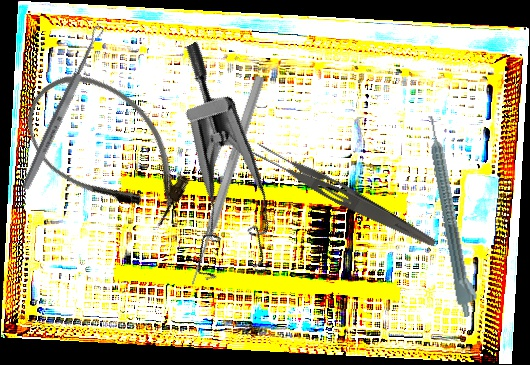Cannula: (5, 50, 212, 247)
Dressing Forceps: (249, 138, 441, 252)
Handpiece: (423, 113, 483, 318)
Pusher: (185, 74, 267, 288)
Speculum: (97, 39, 316, 301)
Surgical Spoon: (19, 23, 107, 192)
